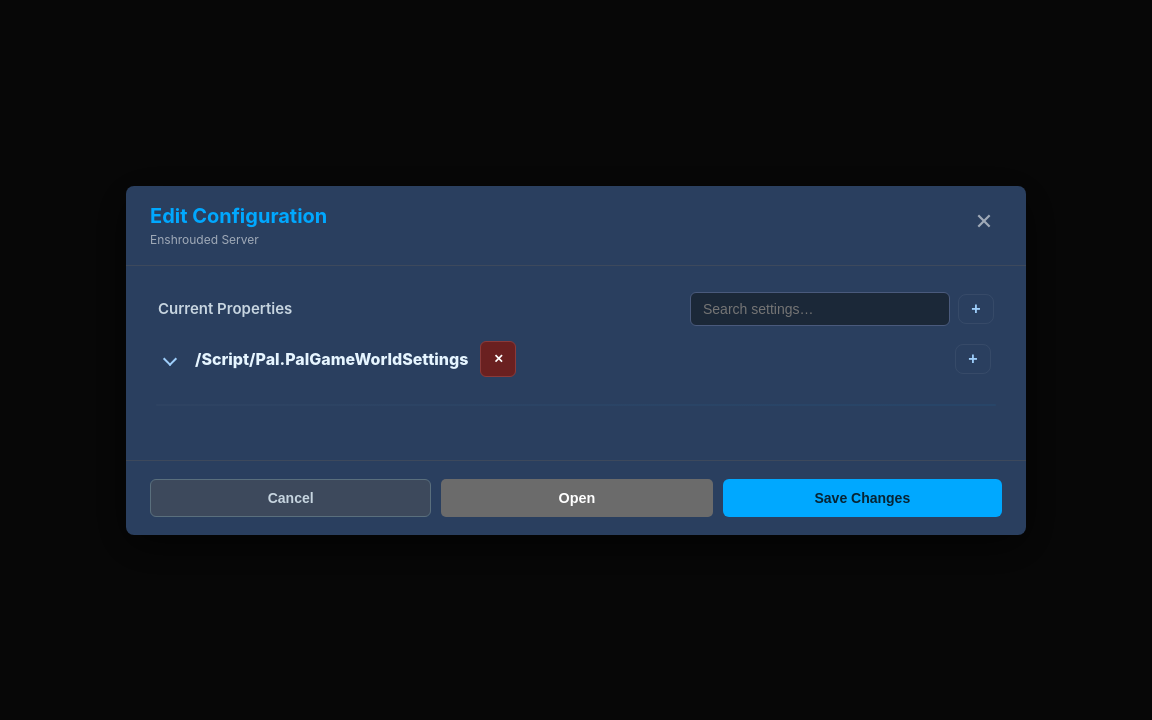
ConfigEditor › hides non-matching sibling properties under a nested section
The width and height of the screenshot is (1152, 720).
Type "diff" into the search field labelled "Search settings". click: [820, 308]
box: [690, 292, 950, 326]
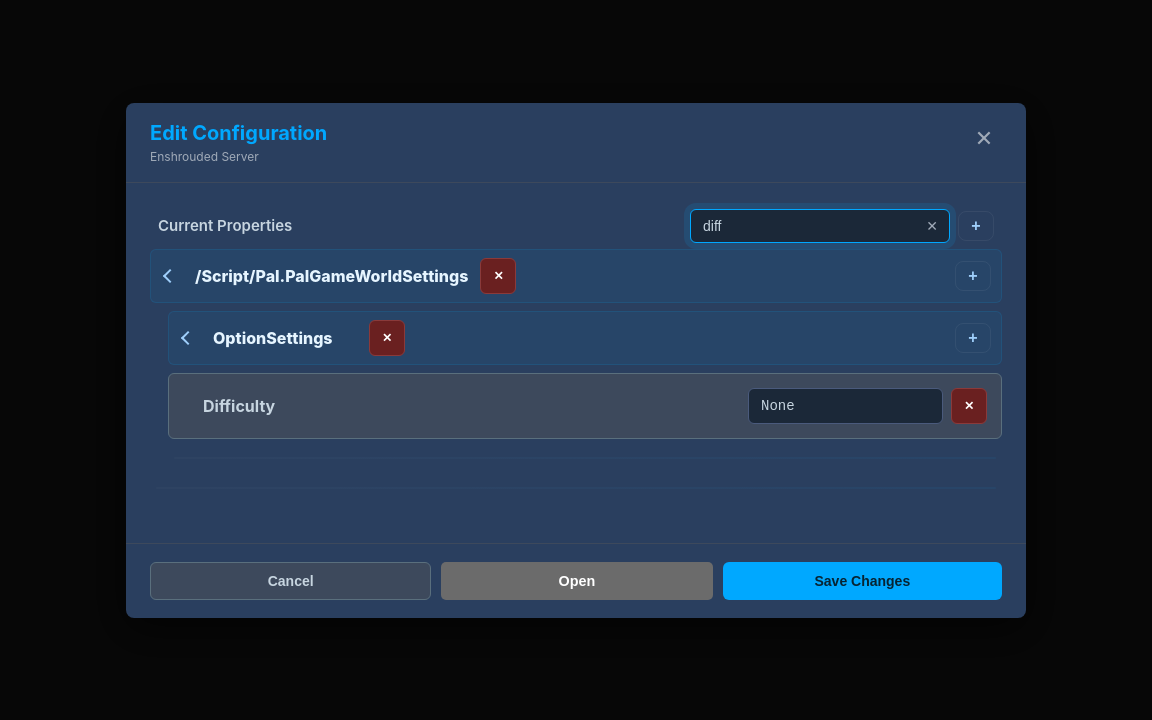
Expected: the text "Difficulty" is shown, [203, 396, 275, 416]
